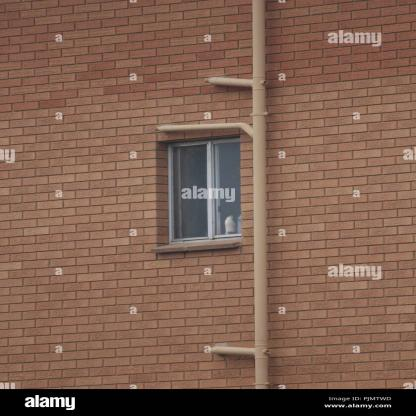PVC: (158, 0, 271, 388)
